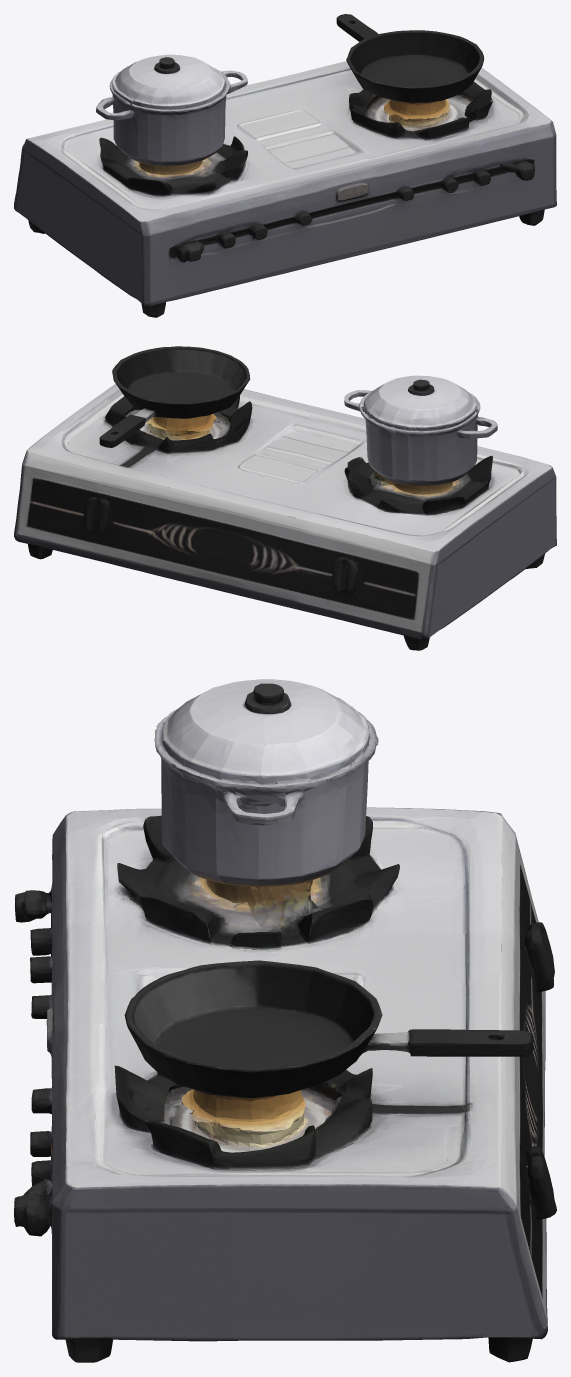
The model's file is cookingstove.glb.
3 renders of one model, top to bottom at view 1: azimuth 30°, elevation 25°; view 2: azimuth 150°, elevation 25°; view 3: azimuth 270°, elevation 25°, orthographic. The views are drawn at different scales.
Parts seen in each view (by area): view 1: world; view 2: world; view 3: world.
Part boxes in pixels (x1,y1,x2,y2): world: (14,14,556,317); world: (14,346,556,650); world: (14,679,556,1362).
Bounding box in the file's own units: 1 × 0.4763 × 0.6076.
1 material, 1 textured.
